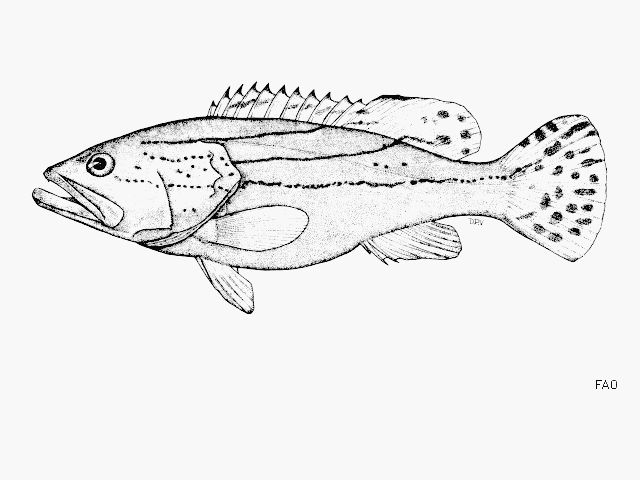fish: (32, 82, 608, 314)
